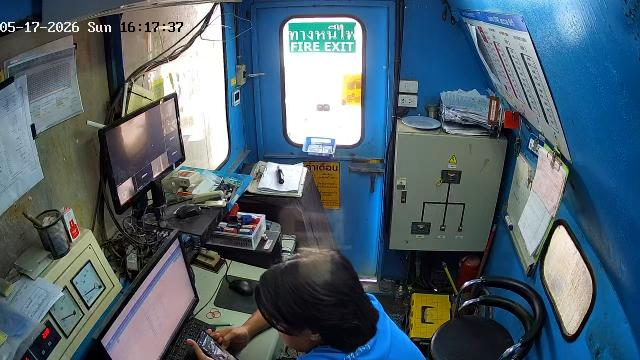Head: (258, 251, 376, 351)
People: (193, 250, 423, 360)
Phone: (194, 329, 240, 360)
